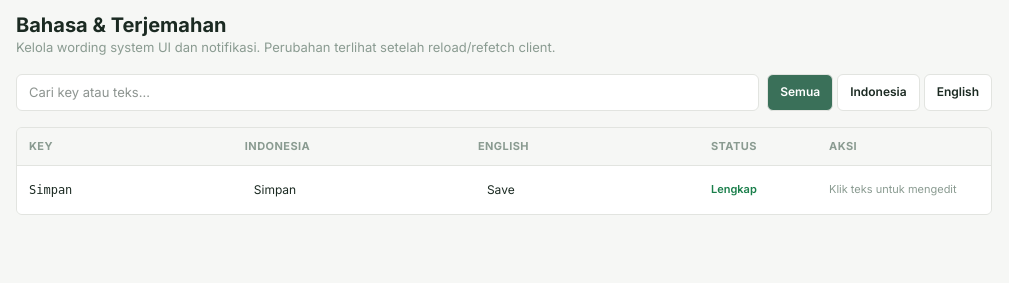
it: TranslationsAdminPage › saves an edited translation via update API
The width and height of the screenshot is (1009, 283).
Click the button with test id "trans-value-Simpan-id": click(357, 190) x1=245 y1=176 x2=470 y2=204
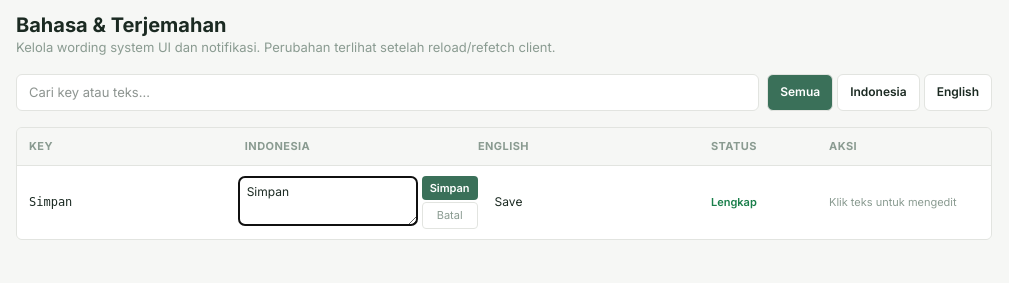
Replace the text in the text box with test id "trans-input" with "Simpan Disimpan": (328, 200) x1=238 y1=176 x2=418 y2=226
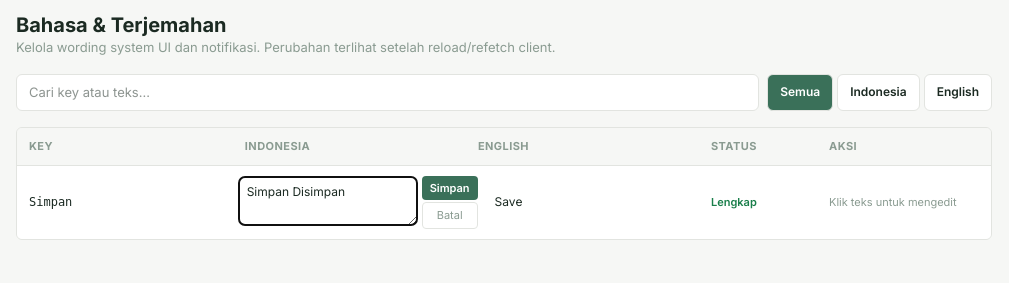
Click the button with test id "trans-save": click(450, 188) x1=422 y1=176 x2=478 y2=200
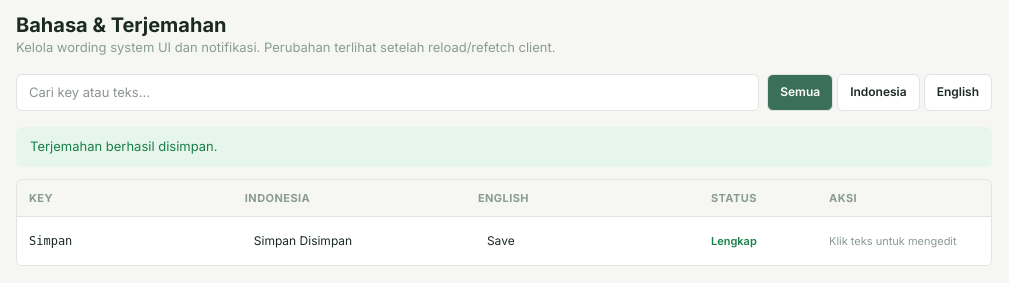
Result: the text "Terjemahan berhasil disimpan." is shown at x1=16 y1=127 x2=992 y2=166
